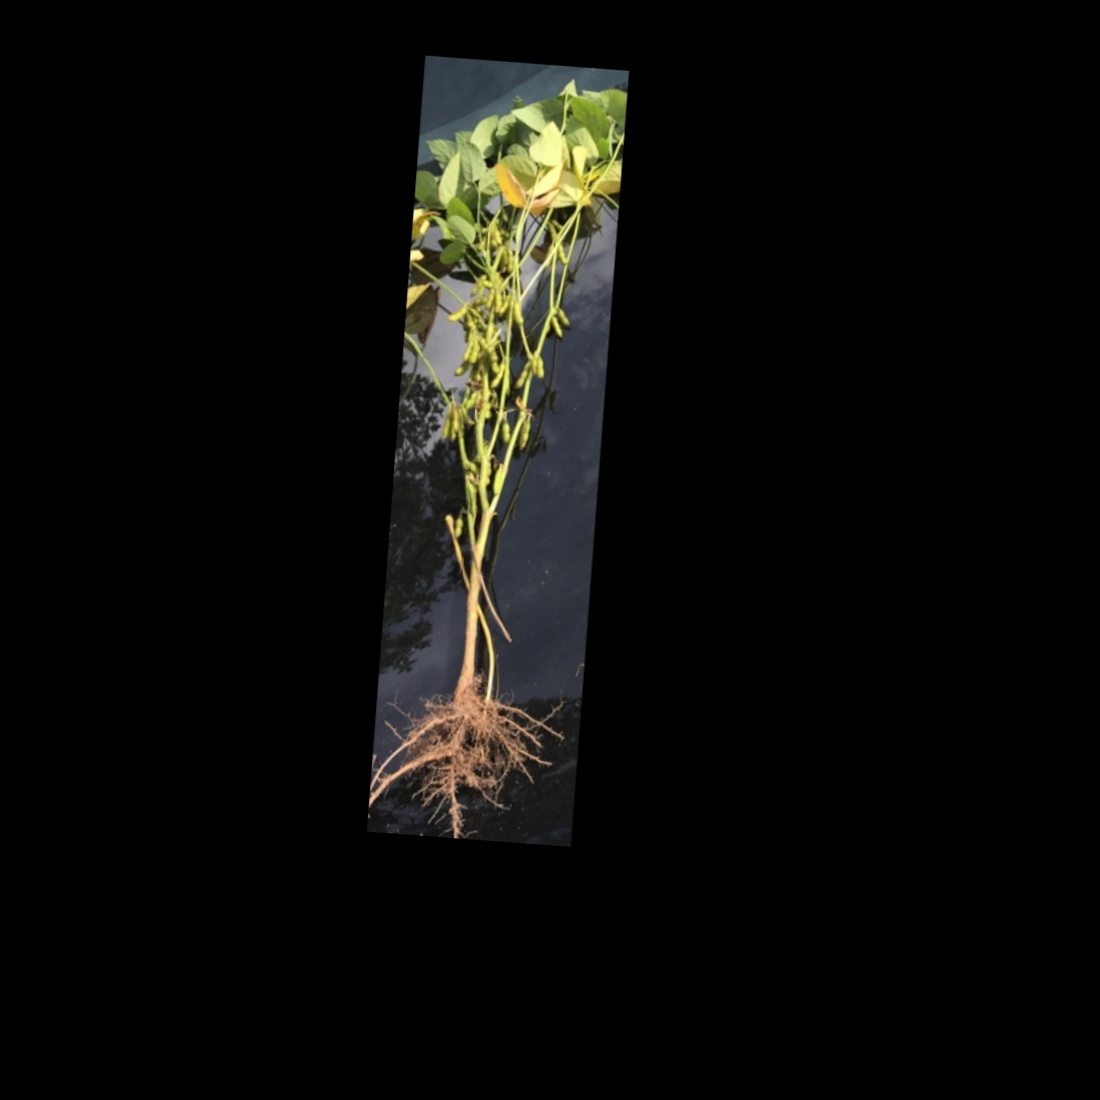pod: (444, 298, 470, 324), (512, 357, 533, 389), (487, 358, 505, 392), (517, 416, 532, 453), (548, 312, 566, 342), (466, 335, 483, 367), (553, 240, 570, 267), (503, 247, 517, 275), (453, 514, 464, 543)
soy: (378, 125, 621, 801)
